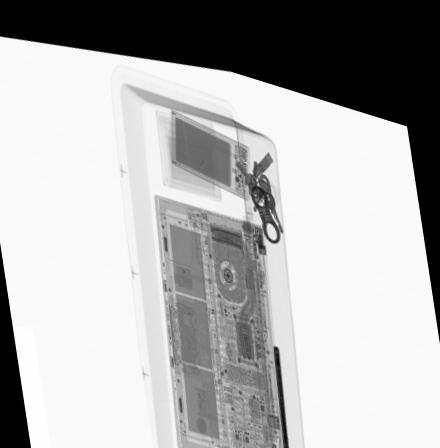Powerbank: (168, 95, 250, 188)
